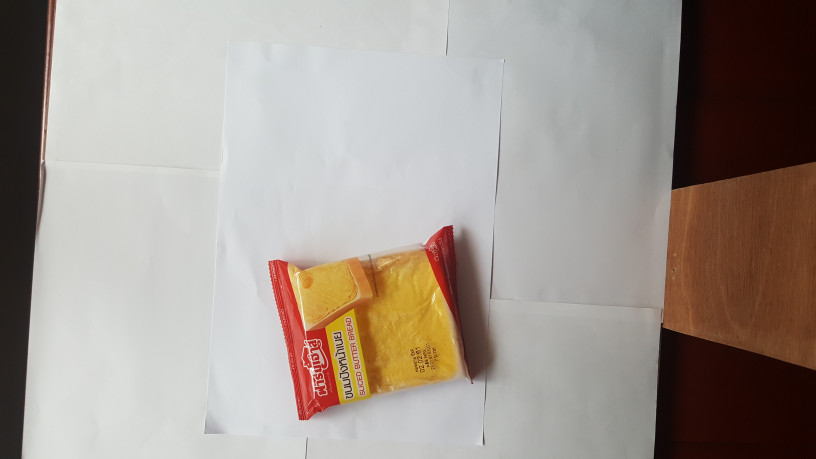farmhouse-bread-butter: (265, 222, 476, 420)
